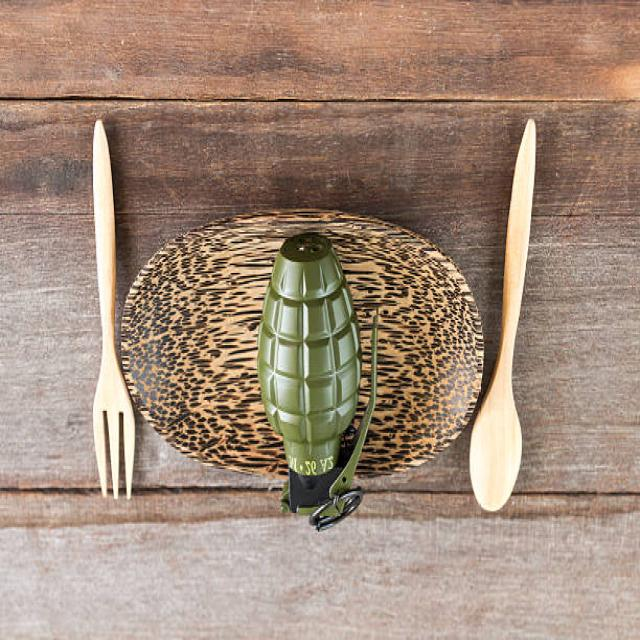grenade: (252, 207, 387, 544)
